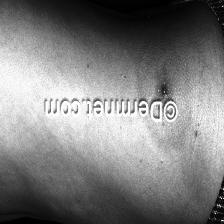Toxin: (158, 80, 174, 96)
